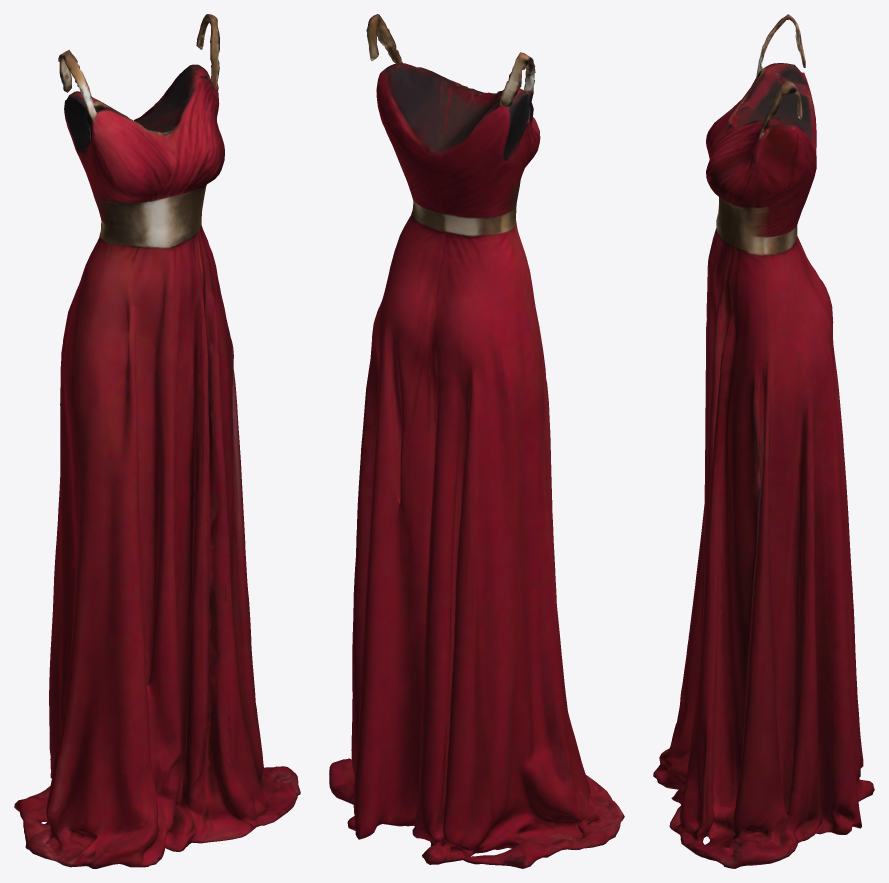
File: job_1743891843_refined.glb
3 renders of one model, left to right at view 1: azimuth 30°, elevation 25°; view 2: azimuth 150°, elevation 25°; view 3: azimuth 270°, elevation 25°, orthographic. The views are drawn at different scales.
Bounding box in the file's own units: 0.7303 × 2.01 × 0.5291.
Materials: 1 (1 with a texture image).
